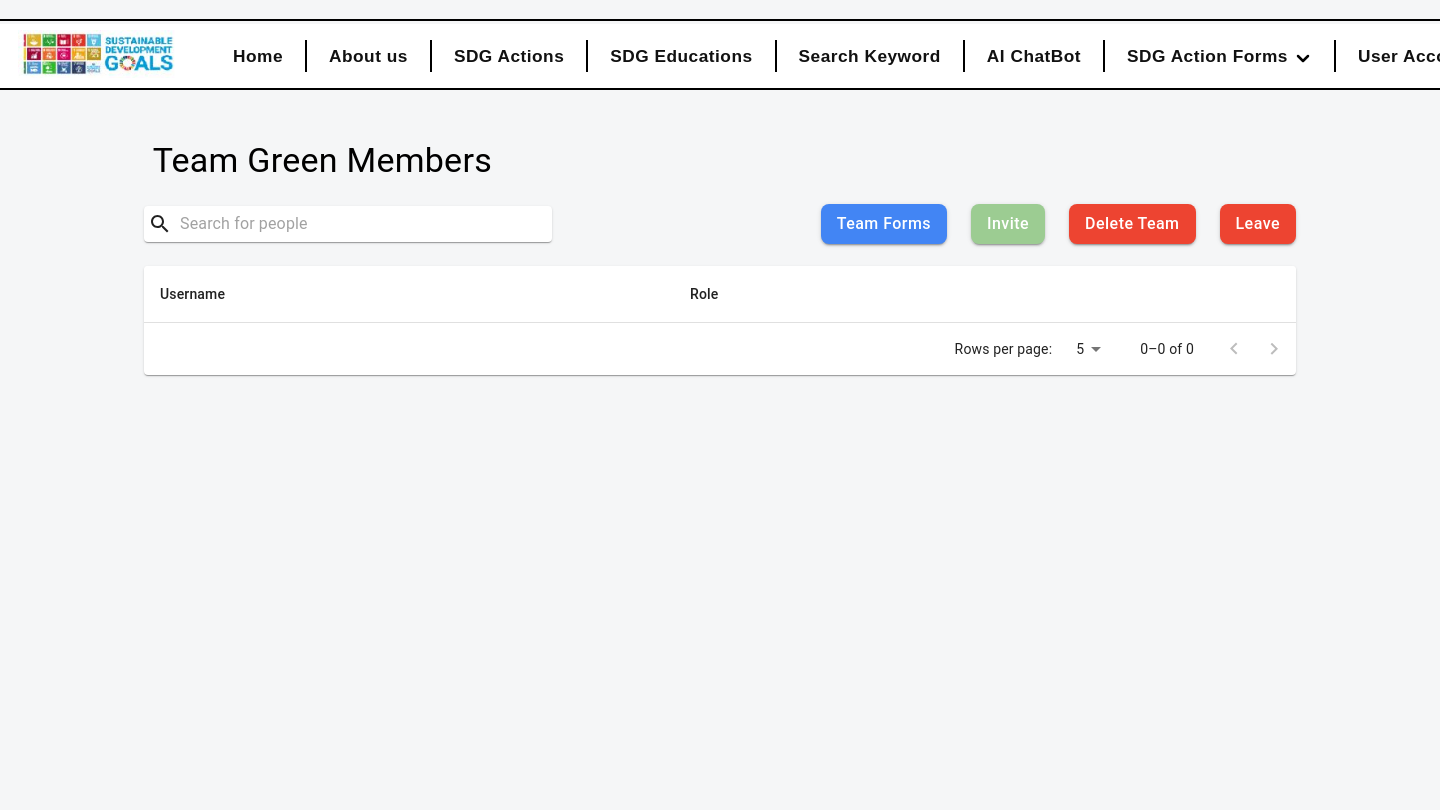
Scenario: Team › should be able to invite
Click the button "Invite" at x=1008, y=224, box [971,204,1045,244]
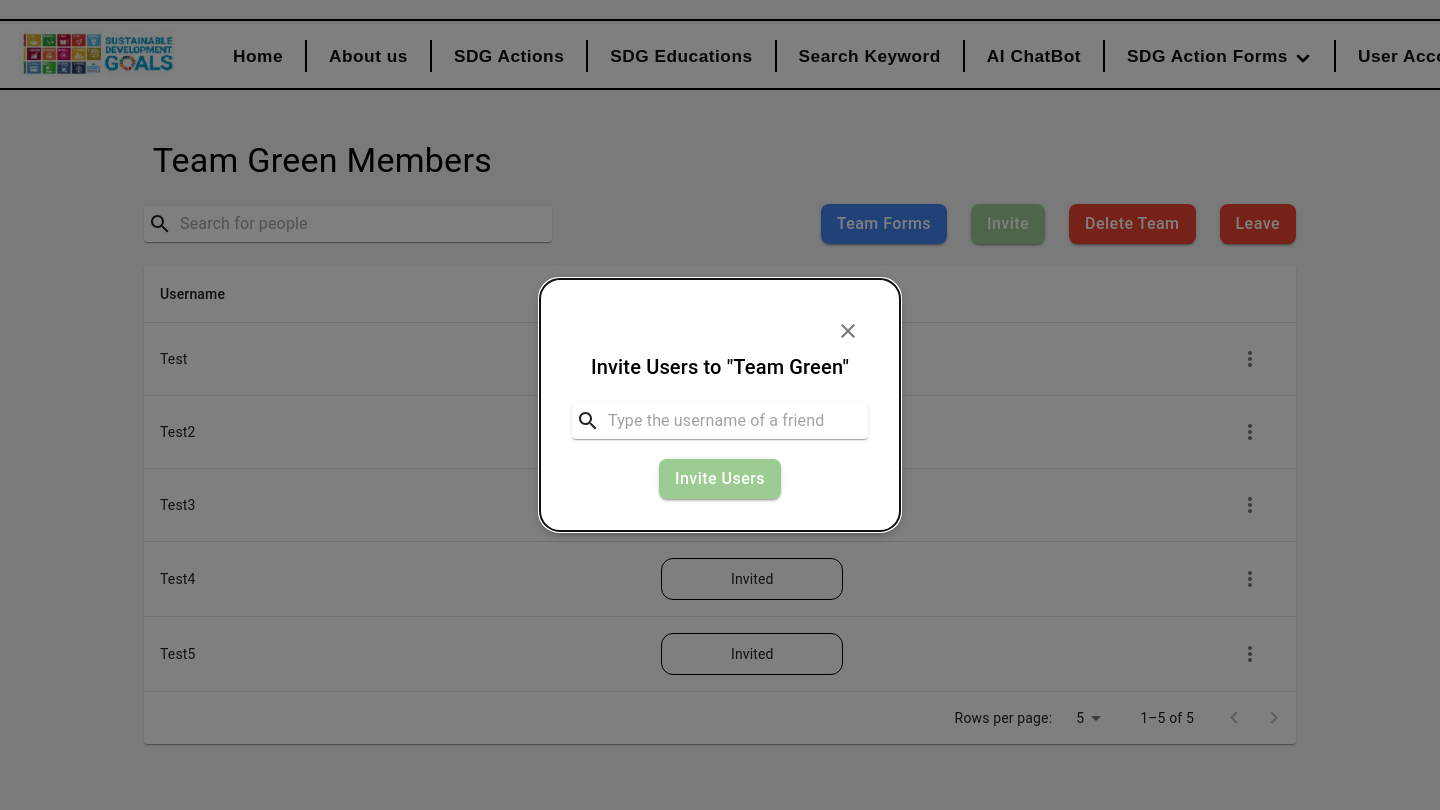
Type "Test6" into the field with placeholder "Type the username of a friend" at x=736, y=421, box [608,405,864,437]
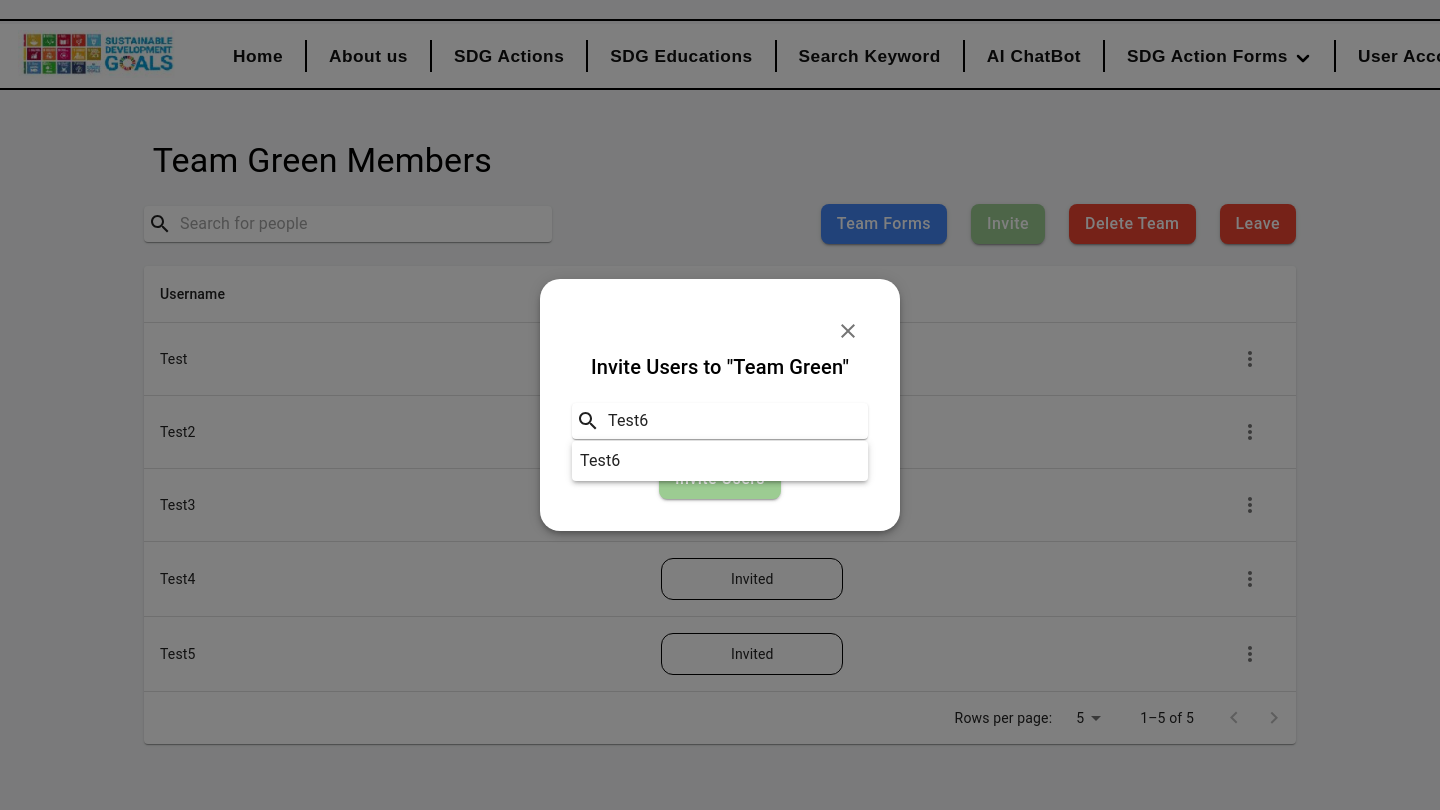
Check: the text "Test6" is shown
Click the text "Test6" at x=600, y=460, box [580,451,620,470]
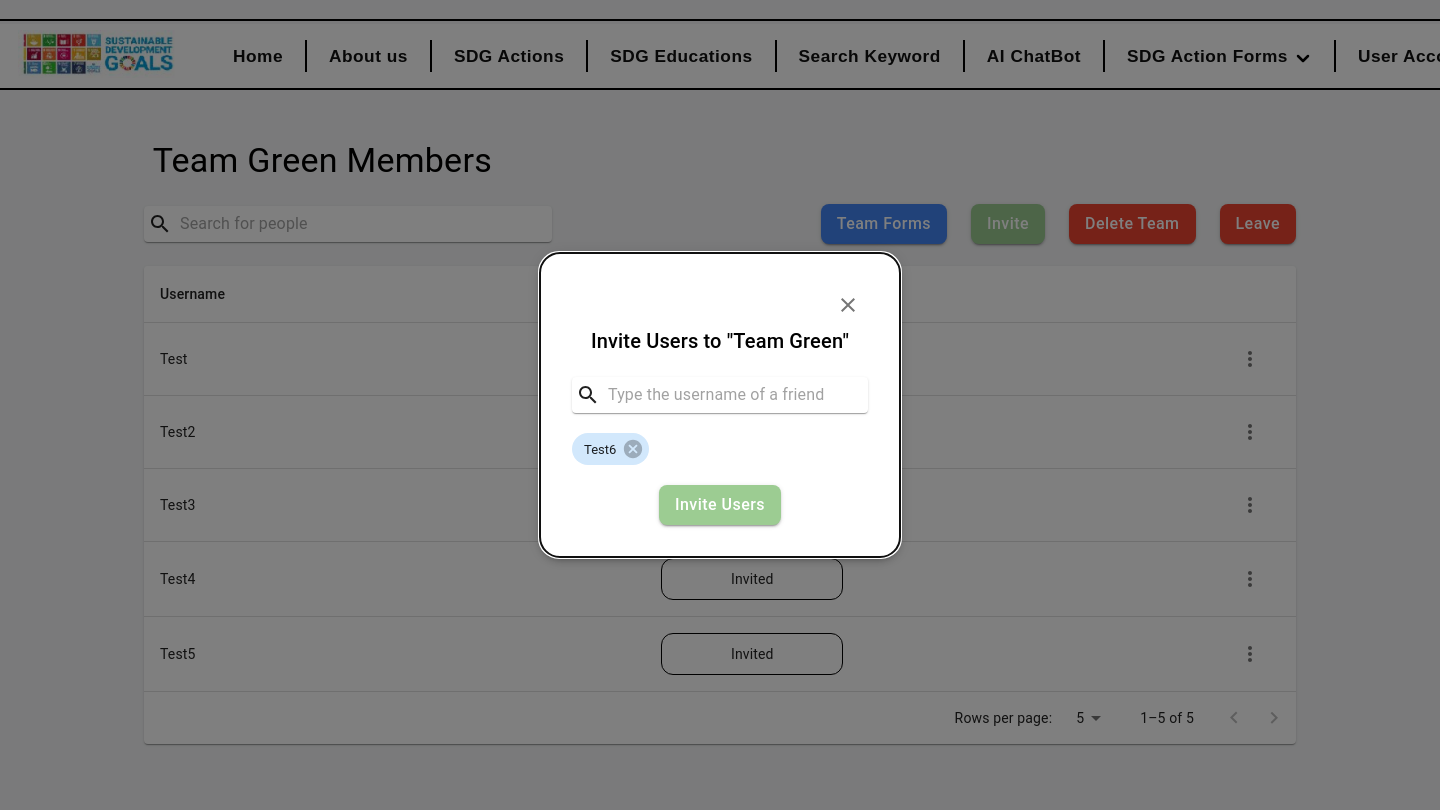
Click the button "Invite Users" at x=720, y=505, box [659,485,781,525]
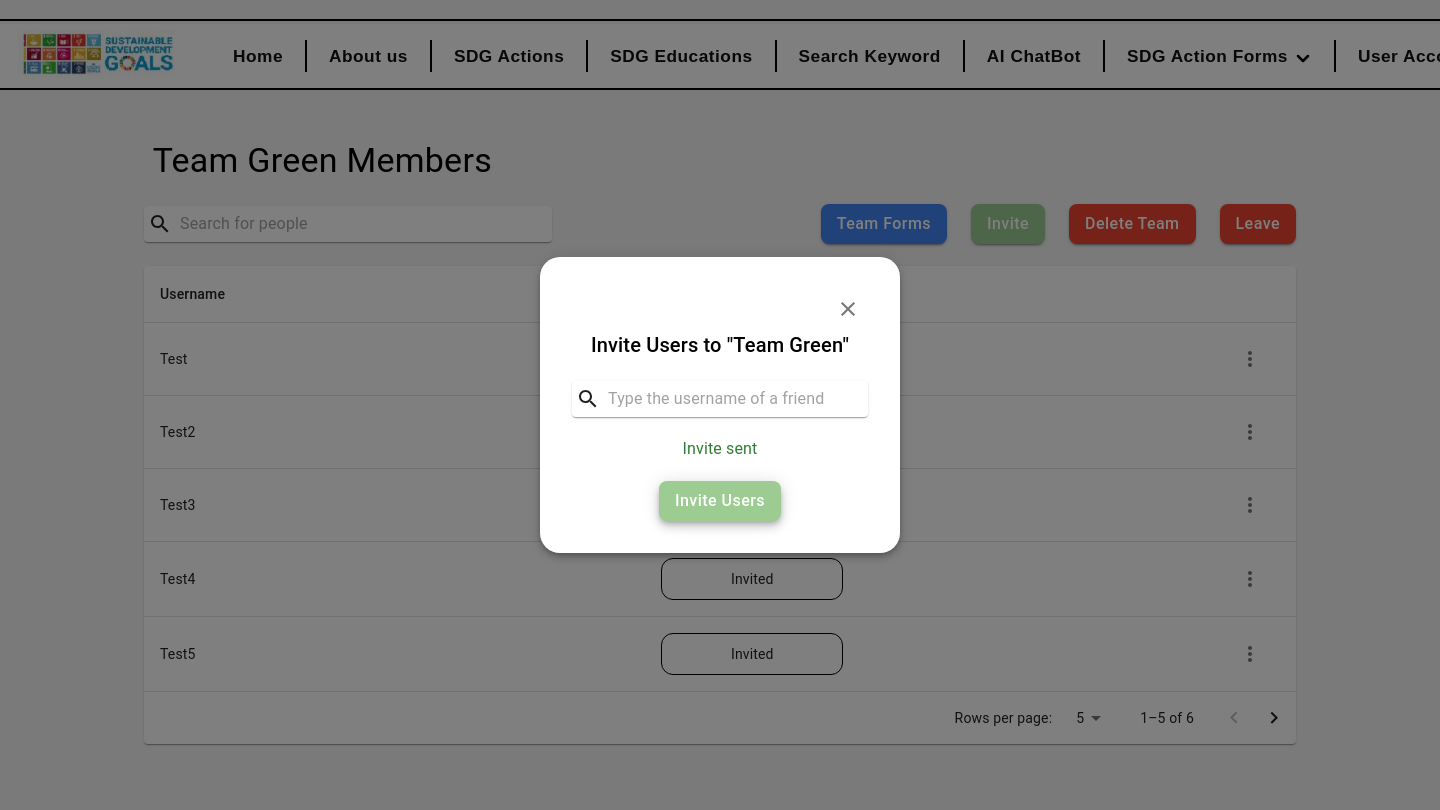
Check: the text "Invite sent" is shown, box [682,439,758,458]
